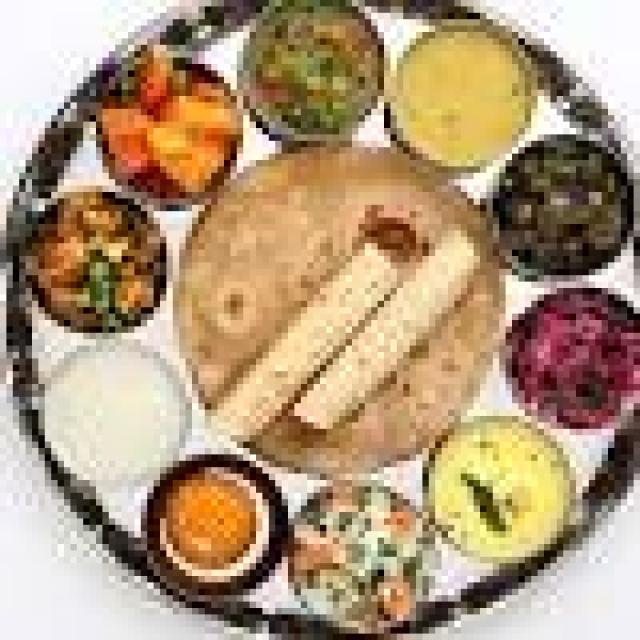curd: (39, 346, 179, 483)
dal: (390, 35, 540, 167)
pickle: (104, 62, 248, 204)
roti: (285, 188, 511, 459)
sweet: (144, 460, 280, 586)
veg-fry: (16, 175, 172, 349), (488, 132, 631, 284)
